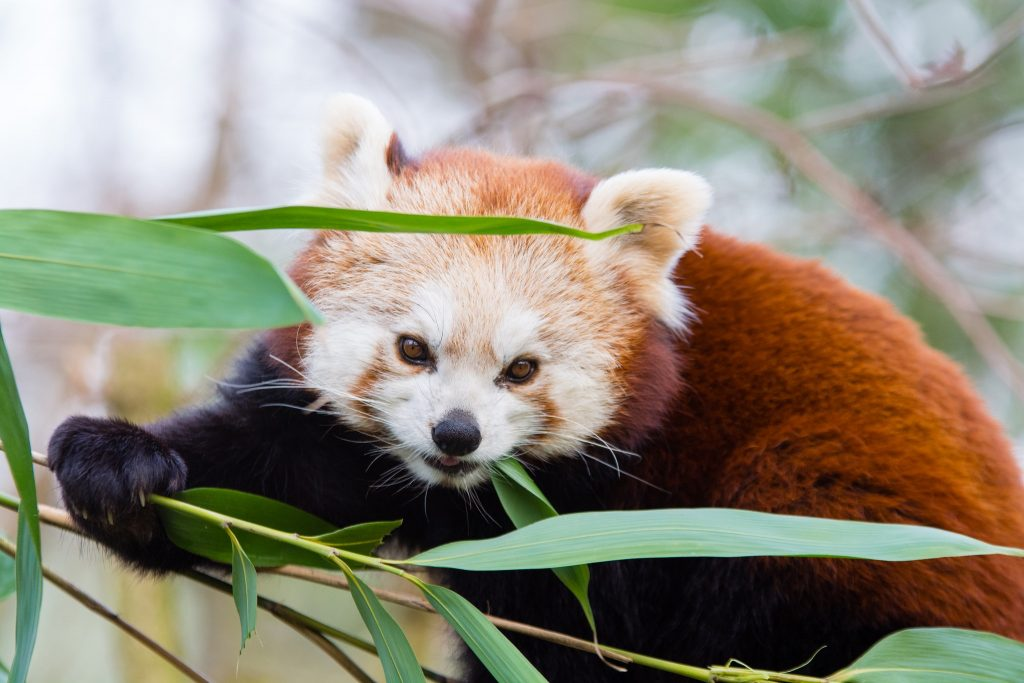Red panda: (291, 89, 717, 489)
